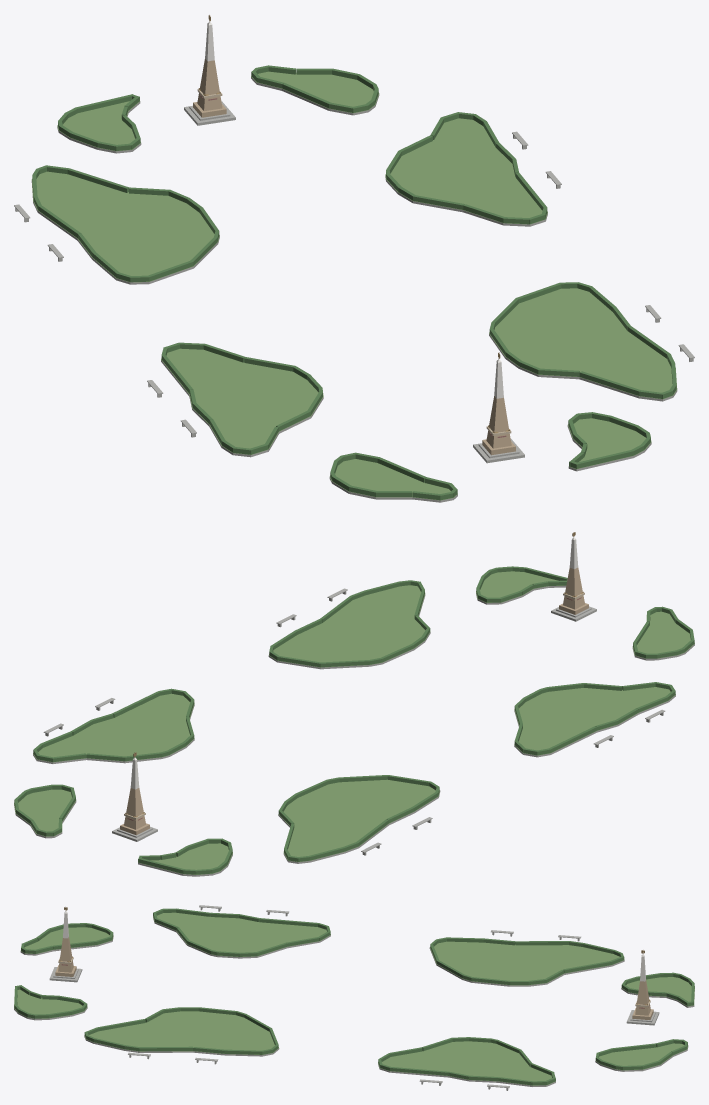
File: piazza_smn.glb
3 renders of one model, top to bottom at view 1: azimuth 30°, elevation 25°; view 2: azimuth 150°, elevation 25°; view 3: azimuth 270°, elevation 25°, orthographic. The views are drawn at different scales.
Visible parts, largest first — view 1: prati@1930-99999.lawn, prati@1930-99999.hedge, prati@1930-99999.serena, mete_di_legno@1563-1607.wood, panchine@1930-99999.serena, obelischi@1608-99999.serena; view 2: prati@1930-99999.lawn, prati@1930-99999.hedge, prati@1930-99999.serena, mete_di_legno@1563-1607.wood, panchine@1930-99999.serena, obelischi@1608-99999.serena; view 3: prati@1930-99999.lawn, prati@1930-99999.hedge, prati@1930-99999.serena, mete_di_legno@1563-1607.wood, panchine@1930-99999.serena, obelischi@1608-99999.serena.
Part boxes in pixels (<box>): prati@1930-99999.lawn: <box>31,71,677,500</box>; prati@1930-99999.hedge: <box>32,65,676,500</box>; prati@1930-99999.serena: <box>31,77,677,502</box>; mete_di_legno@1563-1607.wood: <box>193,59,515,455</box>; panchine@1930-99999.serena: <box>14,131,694,437</box>; obelischi@1608-99999.serena: <box>184,101,524,463</box>; prati@1930-99999.lawn: <box>14,571,694,874</box>; prati@1930-99999.hedge: <box>14,566,694,874</box>; prati@1930-99999.serena: <box>14,585,694,876</box>; mete_di_legno@1563-1607.wood: <box>120,567,588,835</box>; panchine@1930-99999.serena: <box>43,588,665,855</box>; obelischi@1608-99999.serena: <box>112,606,596,841</box>; prati@1930-99999.lawn: <box>14,912,694,1085</box>; prati@1930-99999.hedge: <box>14,908,694,1085</box>; prati@1930-99999.serena: <box>14,917,694,1086</box>; mete_di_legno@1563-1607.wood: <box>55,937,653,1019</box>; panchine@1930-99999.serena: <box>128,905,580,1090</box>; obelischi@1608-99999.serena: <box>49,967,659,1025</box>.
Bounding box in the file's own units: 57.7 × 10.72 × 89.68.
